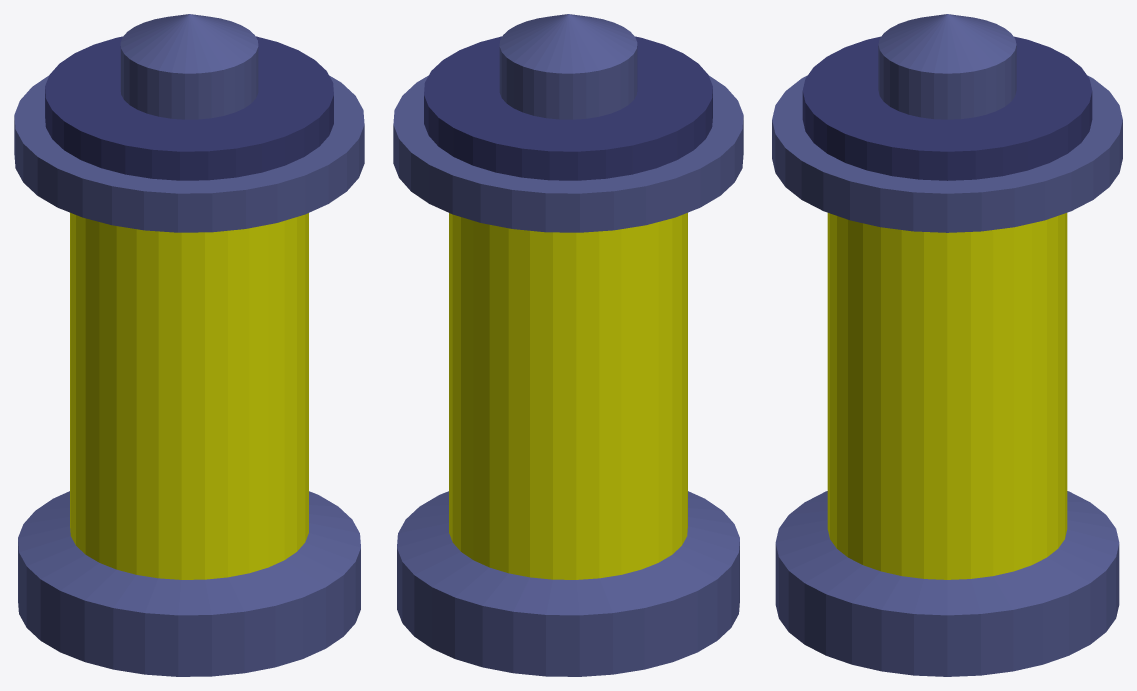
File: generator.fbx
The picture shows the model from 3 angles, left to right: view 1: azimuth 30°, elevation 25°; view 2: azimuth 150°, elevation 25°; view 3: azimuth 270°, elevation 25°; orthographic projection.
Visible parts, largest first — view 1: Cylinder; view 2: Cylinder; view 3: Cylinder.
Boxes of the visible parts, x1=… form: Cylinder: x1=14, y1=14, x2=364, y2=676; Cylinder: x1=393, y1=14, x2=743, y2=676; Cylinder: x1=772, y1=14, x2=1122, y2=676.
Size of the model in its own units: 186 by 345 by 186.
